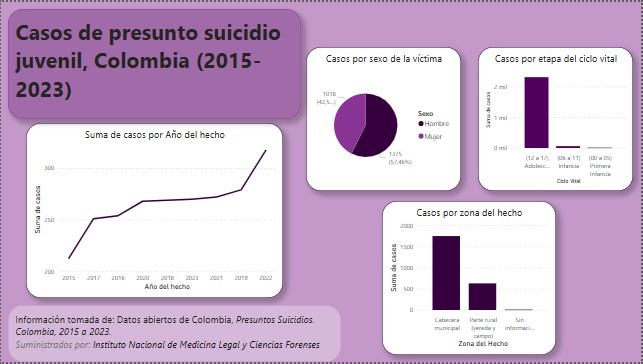

What the dashboard file says about the page in this screenshot:
{"tool":"powerbi","page":{"name":"Presunto suicido","canvas":[1280,720],"ordinal":0},"visuals":[{"type":"clusteredColumnChart","title":"Casos por etapa del ciclo vital","fields":{"Y":["Sum(suicidio_agrupado_powerbi.casos)"],"Category":["suicidio_agrupado_powerbi.Ciclo Vital"]},"box":[954,90,310,288],"z":0},{"type":"pieChart","title":"Casos por sexo de la víctima","fields":{"Category":["suicidio_agrupado_powerbi.Sexo de la victima"],"Y":["Sum(suicidio_agrupado_powerbi.casos)"]},"box":[610,90,310,288],"z":1000},{"type":"clusteredColumnChart","title":"Casos por zona del hecho","fields":{"Y":["Sum(suicidio_agrupado_powerbi.casos)"],"Category":["suicidio_agrupado_powerbi.Zona del Hecho"]},"box":[762,398,348,308],"z":2000},{"type":"lineChart","fields":{"Y":["Sum(suicidio_agrupado_powerbi.casos)"],"Category":["suicidio_agrupado_powerbi.Año del hecho"]},"box":[50,242,514,350],"z":3000},{"type":"textbox","box":[14,14,586,220],"z":3001},{"type":"textbox","box":[14,606,666,114],"z":3002}]}

Visuals, with their boxes in screenshot pixels (x1, y1, x2, y2), scaled from the page's 1280x720 canvas onto the 643x364 screenshot:
"Casos por etapa del ciclo vital" clusteredColumnChart: detection(479, 46, 635, 191)
"Casos por sexo de la víctima" pieChart: detection(306, 46, 462, 191)
"Casos por zona del hecho" clusteredColumnChart: detection(383, 201, 558, 357)
lineChart - Sum(suicidio_agrupado_powerbi.casos) x suicidio_agrupado_powerbi.Año del hecho: detection(25, 122, 283, 299)
textbox: detection(7, 7, 301, 118)
textbox: detection(7, 306, 342, 363)
